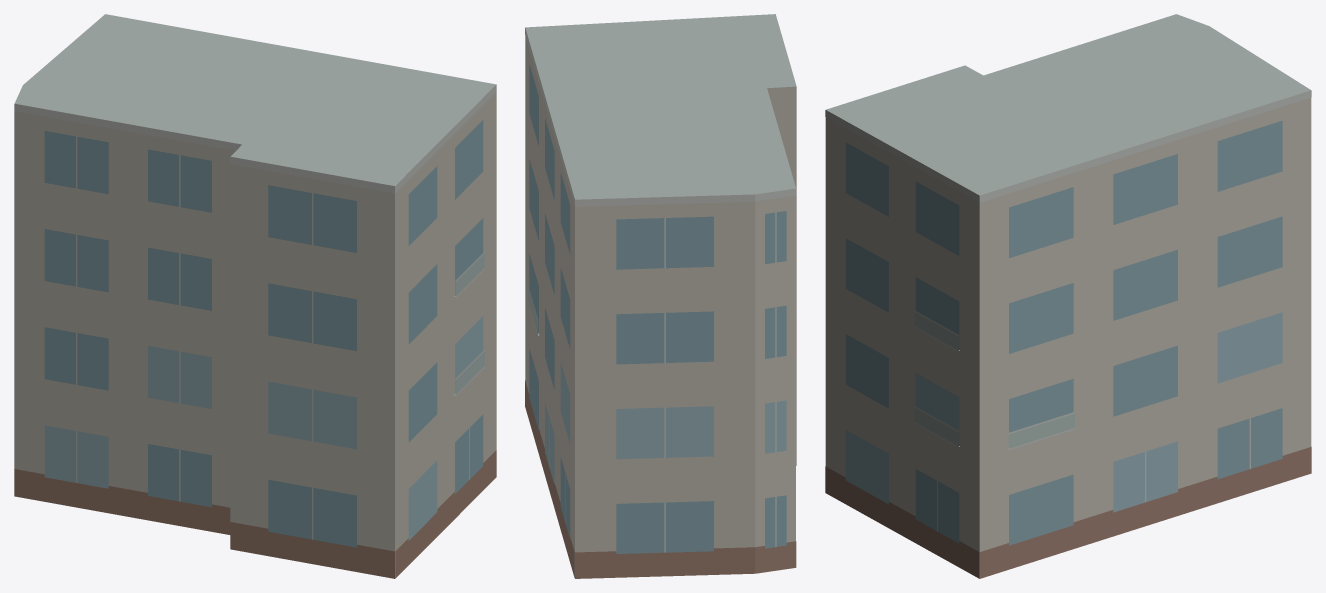
Rendered from survey-upis-32827806.glb.
3 renders of one model, left to right at view 1: azimuth 30°, elevation 25°; view 2: azimuth 150°, elevation 25°; view 3: azimuth 270°, elevation 25°, orthographic. The views are drawn at different scales.
Visible parts, largest first — view 1: survey-upis-32827806.tmp; view 2: survey-upis-32827806.tmp; view 3: survey-upis-32827806.tmp.
Boxes of the visible parts, bbox=[...] form: survey-upis-32827806.tmp: bbox=[14, 14, 496, 578]; survey-upis-32827806.tmp: bbox=[525, 14, 796, 578]; survey-upis-32827806.tmp: bbox=[825, 14, 1311, 578].
Bounding box in the file's own units: 13.22 × 13 × 14.94.
